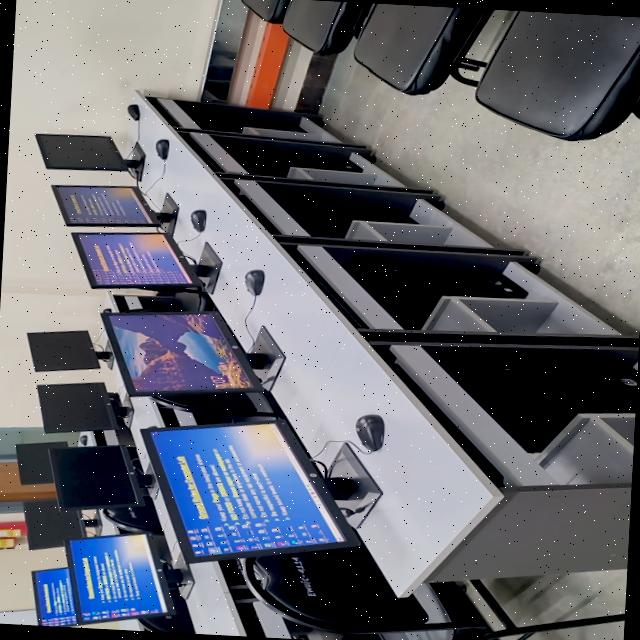Chair: (241, 543, 492, 640), (475, 10, 640, 140), (354, 2, 493, 94), (283, 0, 365, 55), (151, 391, 282, 421), (102, 496, 163, 533), (242, 0, 290, 23)
Cpu: (463, 365, 638, 452), (372, 269, 527, 328), (246, 150, 362, 176)
Fire Extinguisher: (0, 521, 26, 537), (0, 537, 16, 549)
Monitor: (148, 423, 350, 559), (102, 309, 270, 402), (68, 534, 172, 622), (73, 232, 214, 291), (49, 444, 154, 510), (52, 185, 172, 226), (38, 382, 133, 432), (36, 133, 139, 171), (24, 499, 101, 549), (27, 330, 110, 371), (32, 567, 77, 627), (16, 441, 67, 484)
Mouse: (356, 414, 384, 452), (245, 269, 264, 295), (190, 209, 206, 231), (155, 138, 169, 159), (127, 104, 140, 120), (79, 434, 87, 444)
